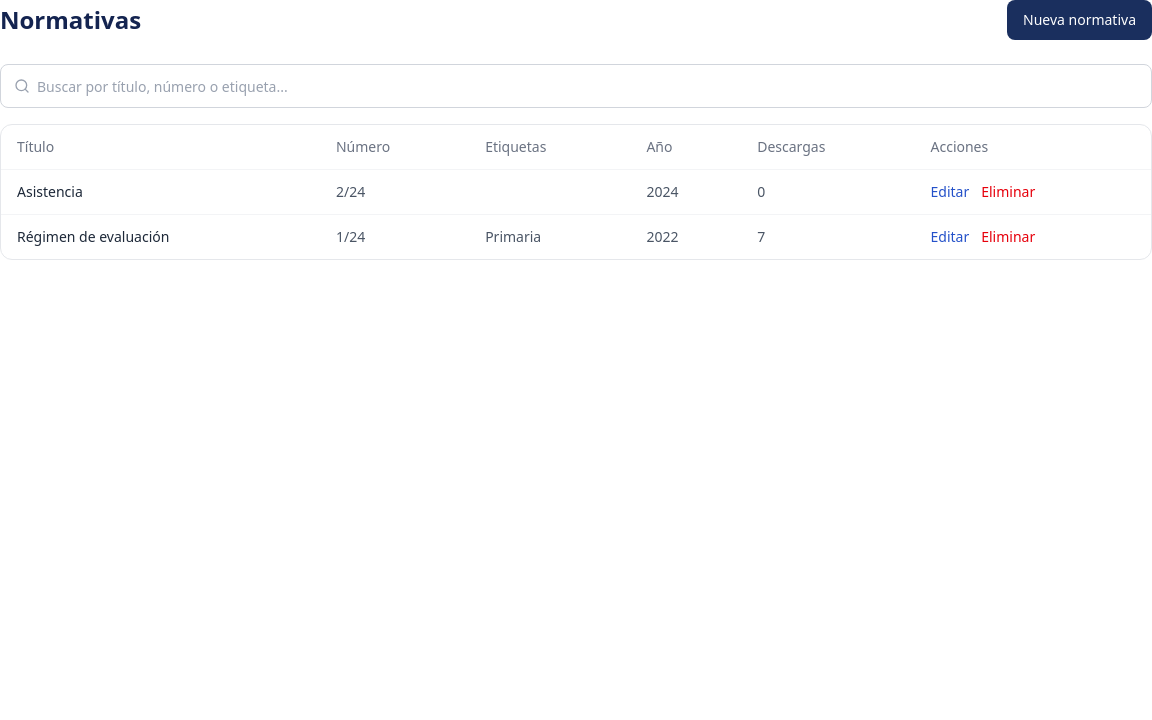
Test case: NormativasAdminPage: eliminar (criterio 4) › pide confirmación y no borra nada hasta confirmar
This screenshot has width=1152, height=720.
Click the button "Eliminar" in the row of "Régimen de evaluación".
click(1008, 237)  # box [981,227,1035,247]
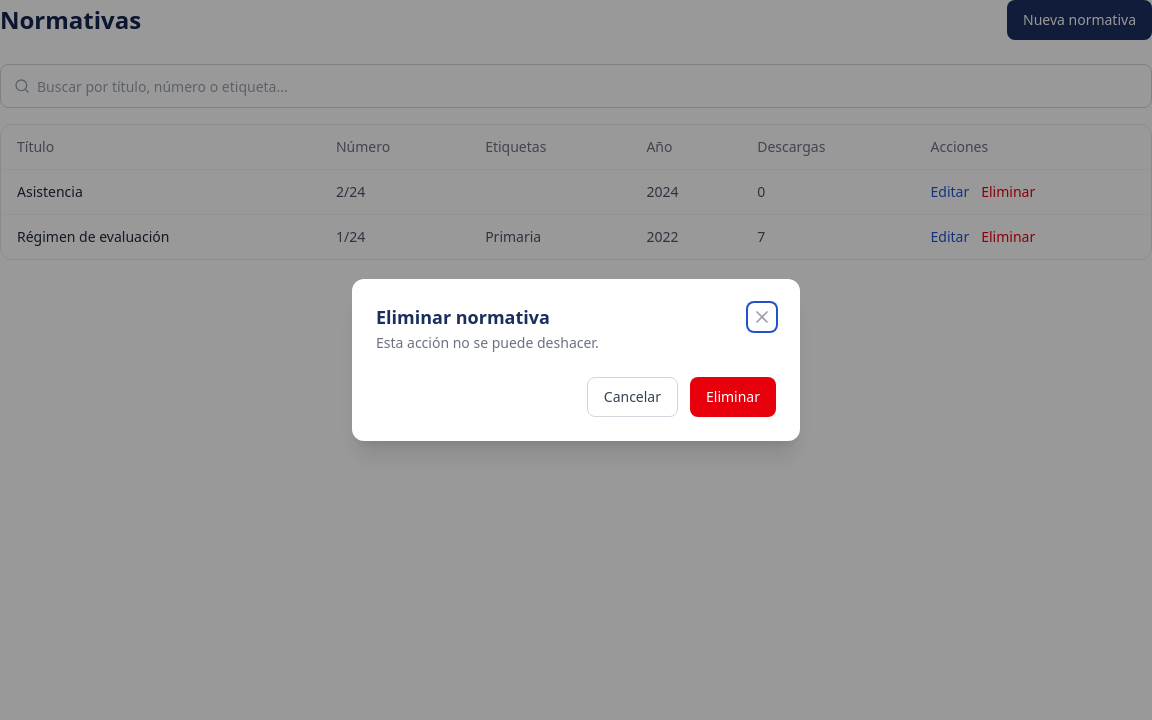
Check: the dialog is shown, box [352,279,800,441]
